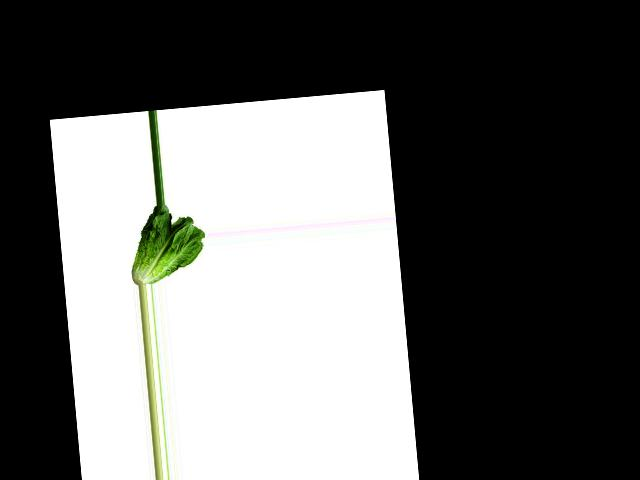lettuce: (125, 203, 209, 285)
